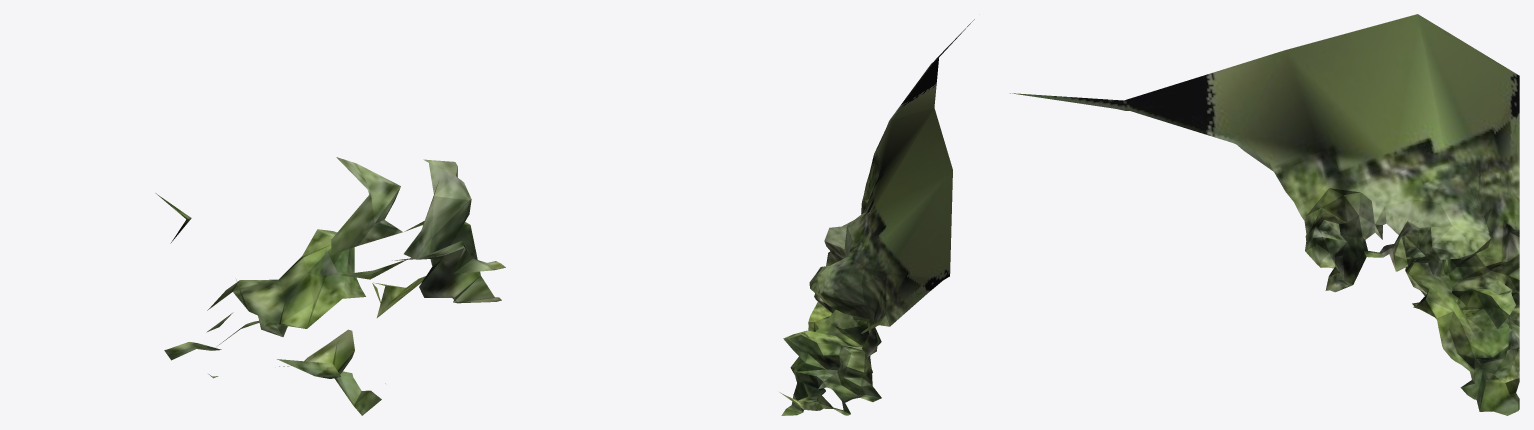
The picture shows the model from 3 angles, left to right: view 1: azimuth 30°, elevation 25°; view 2: azimuth 150°, elevation 25°; view 3: azimuth 270°, elevation 25°; orthographic projection. The views are drawn at different scales.
Bounding box in the file's own units: 21.37 × 30.69 × 43.3.
Materials: 1 (1 with a texture image).
